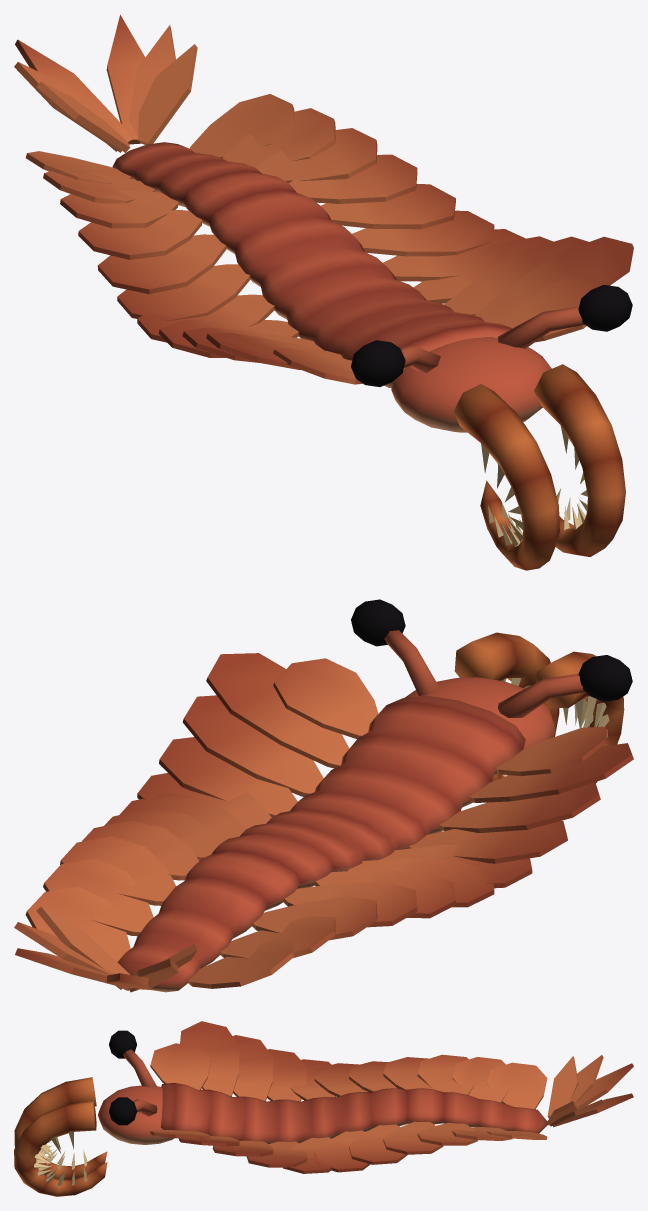
File: Anomalocaris.fbx
3 renders of one model, top to bottom at view 1: azimuth 30°, elevation 25°; view 2: azimuth 150°, elevation 25°; view 3: azimuth 270°, elevation 25°, orthographic. The views are drawn at different scales.
Visible parts, largest first — view 1: Anomalocaris; view 2: Anomalocaris; view 3: Anomalocaris.
Boxes of the visible parts, x1=… form: Anomalocaris: x1=14, y1=14, x2=633, y2=570; Anomalocaris: x1=14, y1=599, x2=633, y2=992; Anomalocaris: x1=14, y1=1021, x2=633, y2=1196.
Size of the model in its own units: 0.913 by 0.4335 by 1.96.
